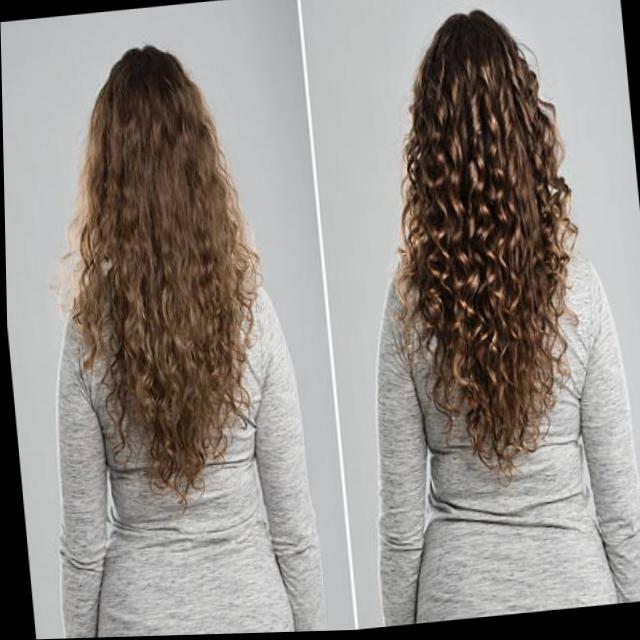no helmet: (409, 5, 562, 259), (79, 35, 231, 275)
